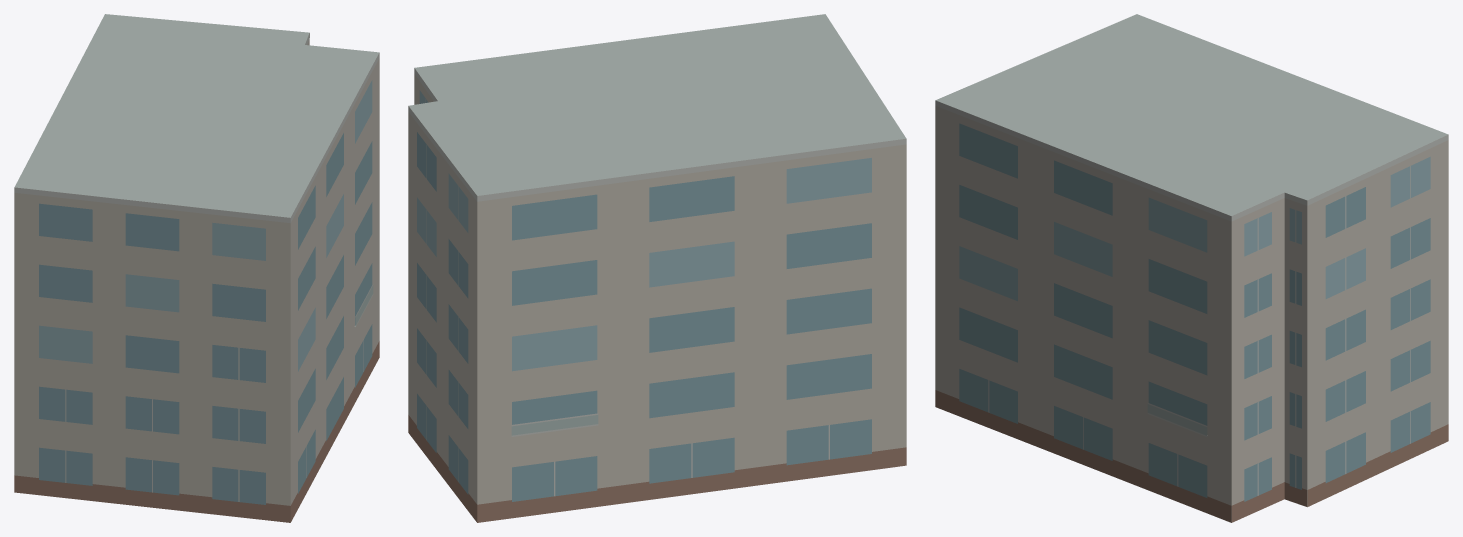
Rendered from survey-upis-33014000.glb.
The picture shows the model from 3 angles, left to right: view 1: azimuth 30°, elevation 25°; view 2: azimuth 150°, elevation 25°; view 3: azimuth 270°, elevation 25°; orthographic projection. The views are drawn at different scales.
Parts seen in each view (by area): view 1: survey-upis-33014000.tmp; view 2: survey-upis-33014000.tmp; view 3: survey-upis-33014000.tmp.
Boxes of the visible parts, x1,y1,x2,y2 form: survey-upis-33014000.tmp: (14, 14, 379, 522); survey-upis-33014000.tmp: (408, 14, 906, 522); survey-upis-33014000.tmp: (935, 14, 1448, 522).
Bounding box in the file's own units: 19.67 × 13.9 × 21.09.
